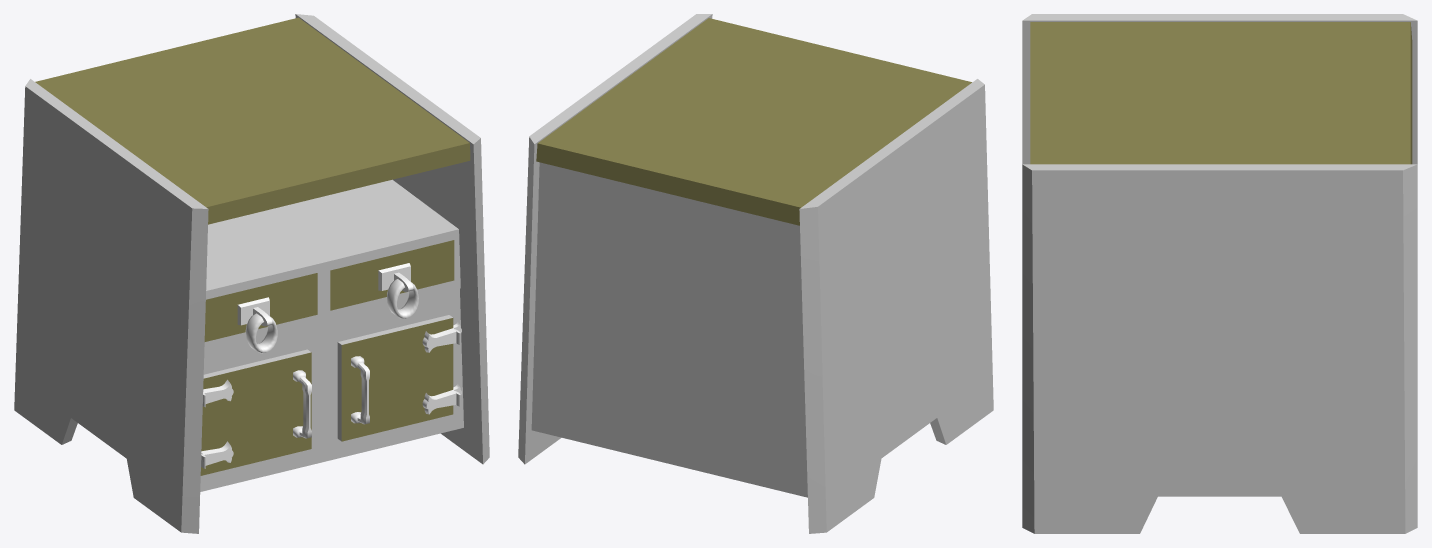
The model's file is cabinet.glb.
3 renders of one model, left to right at view 1: azimuth 30°, elevation 25°; view 2: azimuth 150°, elevation 25°; view 3: azimuth 270°, elevation 25°, orthographic. The views are drawn at different scales.
Visible parts, largest first — view 1: Cabinet; view 2: Cabinet; view 3: Cabinet.
Part boxes in pixels (<box>): Cabinet: <box>14,14,489,533</box>; Cabinet: <box>518,14,993,533</box>; Cabinet: <box>1022,14,1417,533</box>.
Bounding box in the file's own units: 1 × 1 × 1.
